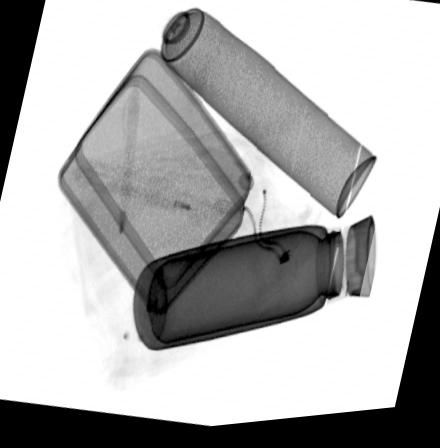Sprayer: (125, 0, 376, 227)
